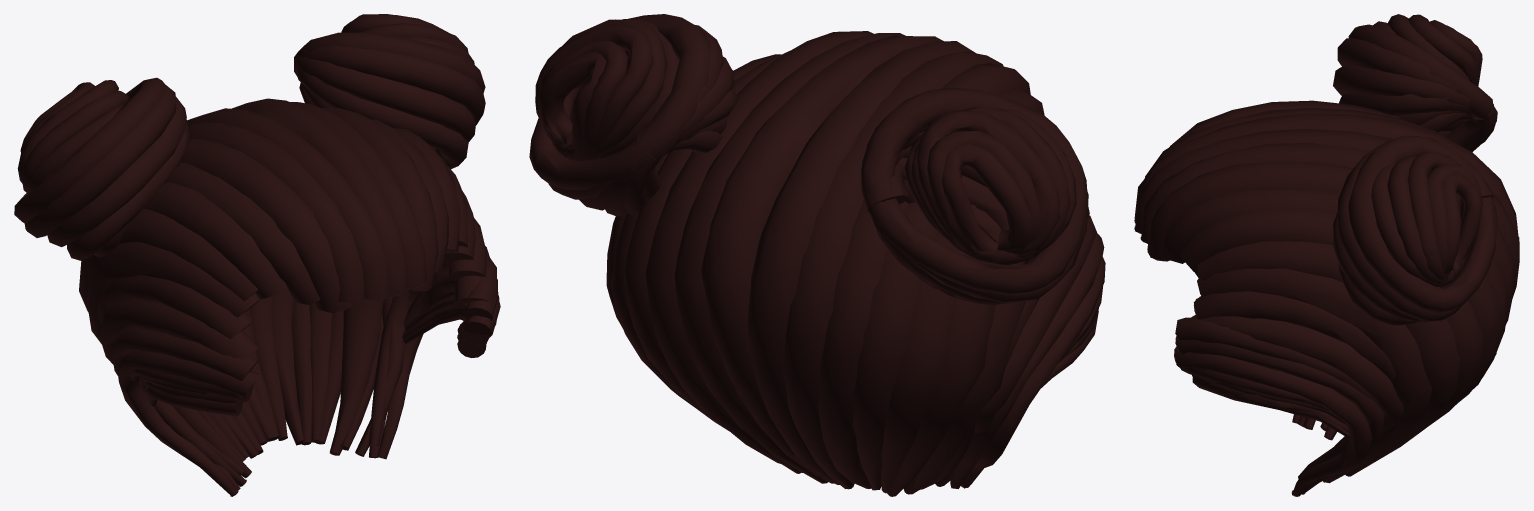
File: hair-6-ce6fd89f.glb
3 views of the same model, side by side, from view 1: azimuth 30°, elevation 25°; view 2: azimuth 150°, elevation 25°; view 3: azimuth 270°, elevation 25° (orthographic). The views are drawn at different scales.
Parts seen in each view (by area): view 1: hair_6.001; view 2: hair_6.001; view 3: hair_6.001.
Boxes of the visible parts, box(x1,y1,x2,y2) form: hair_6.001: box(14, 14, 500, 496); hair_6.001: box(529, 14, 1105, 496); hair_6.001: box(1134, 14, 1519, 496).
Bounding box in the file's own units: 2.42 × 1.95 × 1.82.
